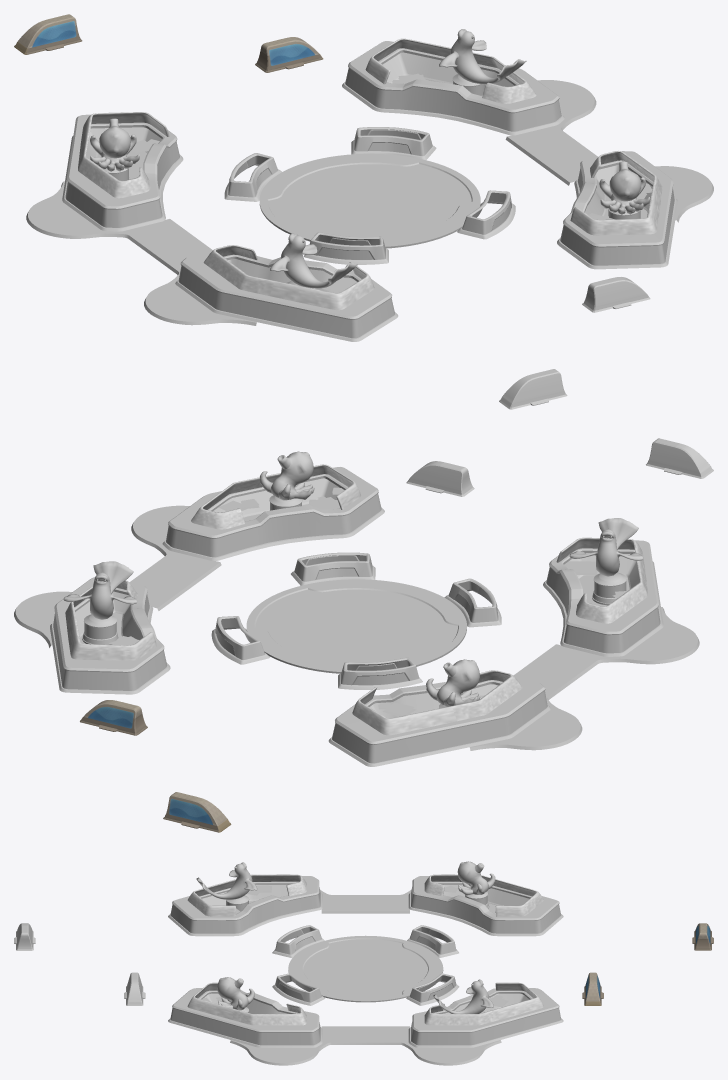
Rendered from pref_Area02_Small_Grandstand_lv3.fbx.
3 views of the same model, one above another, from view 1: azimuth 30°, elevation 25°; view 2: azimuth 150°, elevation 25°; view 3: azimuth 270°, elevation 25° (orthographic). The views are drawn at different scales.
Parts seen in each view (by area): view 1: pref_sm_beach_techcenter_lv3, sm_beach_techcenter_floor02a_lv3, sm_beach_techcenter_floor01a_lv3, sm_beach_techcenter_floor02c_lv3, sm_beach_techcenter_floor01c_lv3, pref_sm_beach_techstatue02_lv3, pref_sm_beach_techstatue02_lv3 (1), pref_sm_beach_techobstacle07b_mirror_lv3, pref_sm_beach_techobstacle07b_lv3 (9), pref_sm_beach_techstatue01_lv3 (1), pref_sm_beach_techstatue01_lv3, pref_sm_beach_techobstacle07b_lv3 (10) (+1 smaller); view 2: sm_beach_techcenter_floor02a_lv3, sm_beach_techcenter_floor01a_lv3, pref_sm_beach_techcenter_lv3, sm_beach_techcenter_floor02c_lv3, sm_beach_techcenter_floor01c_lv3, pref_sm_beach_techstatue02_lv3 (1), pref_sm_beach_techstatue02_lv3, pref_sm_beach_techstatue01_lv3 (1), pref_sm_beach_techobstacle07b_lv3 (9), pref_sm_beach_techobstacle07b_mirror_lv3, pref_sm_beach_techstatue01_lv3, pref_sm_beach_techobstacle07b_mirror_lv3 (1) (+3 smaller); view 3: sm_beach_techcenter_floor01a_lv3, pref_sm_beach_techcenter_lv3, sm_beach_techcenter_floor02a_lv3, sm_beach_techcenter_floor01c_lv3, sm_beach_techcenter_floor02c_lv3, pref_sm_beach_techstatue01_lv3, pref_sm_beach_techstatue01_lv3 (1), pref_sm_beach_techstatue02_lv3, pref_sm_beach_techstatue02_lv3 (1), pref_sm_beach_techobstacle07b_lv3 (10), pref_sm_beach_techobstacle07b_mirror_lv3 (1), pref_sm_beach_techobstacle07b_lv3 (9) (+1 smaller).
Part boxes in pixels (bbox=[...]): pref_sm_beach_techcenter_lv3: bbox=[224, 127, 515, 264]; sm_beach_techcenter_floor02a_lv3: bbox=[26, 114, 398, 341]; sm_beach_techcenter_floor01a_lv3: bbox=[342, 41, 713, 269]; sm_beach_techcenter_floor02c_lv3: bbox=[78, 112, 374, 310]; sm_beach_techcenter_floor01c_lv3: bbox=[365, 38, 662, 235]; pref_sm_beach_techstatue02_lv3: bbox=[270, 233, 357, 288]; pref_sm_beach_techstatue02_lv3 (1): bbox=[439, 29, 526, 84]; pref_sm_beach_techobstacle07b_mirror_lv3: bbox=[499, 369, 567, 409]; pref_sm_beach_techobstacle07b_lv3 (9): bbox=[14, 14, 82, 54]; pref_sm_beach_techstatue01_lv3 (1): bbox=[599, 161, 650, 214]; pref_sm_beach_techstatue01_lv3: bbox=[90, 118, 139, 171]; pref_sm_beach_techobstacle07b_lv3 (10): bbox=[255, 37, 323, 72]; sm_beach_techcenter_floor02a_lv3: bbox=[328, 540, 699, 766]; sm_beach_techcenter_floor01a_lv3: bbox=[14, 467, 384, 694]; pref_sm_beach_techcenter_lv3: bbox=[211, 552, 501, 689]; sm_beach_techcenter_floor02c_lv3: bbox=[352, 537, 648, 735]; sm_beach_techcenter_floor01c_lv3: bbox=[65, 464, 360, 660]; pref_sm_beach_techstatue02_lv3 (1): bbox=[63, 561, 137, 619]; pref_sm_beach_techstatue02_lv3: bbox=[569, 518, 643, 576]; pref_sm_beach_techstatue01_lv3 (1): bbox=[260, 451, 314, 500]; pref_sm_beach_techobstacle07b_lv3 (9): bbox=[163, 792, 231, 832]; pref_sm_beach_techobstacle07b_mirror_lv3: bbox=[646, 438, 713, 478]; pref_sm_beach_techstatue01_lv3: bbox=[426, 659, 480, 706]; pref_sm_beach_techobstacle07b_mirror_lv3 (1): bbox=[406, 461, 474, 496]; sm_beach_techcenter_floor01a_lv3: bbox=[168, 988, 563, 1065]; pref_sm_beach_techcenter_lv3: bbox=[272, 925, 459, 1005]; sm_beach_techcenter_floor02a_lv3: bbox=[168, 874, 563, 936]; sm_beach_techcenter_floor01c_lv3: bbox=[187, 982, 543, 1025]; sm_beach_techcenter_floor02c_lv3: bbox=[187, 874, 543, 916]; pref_sm_beach_techstatue01_lv3: bbox=[457, 861, 495, 895]; pref_sm_beach_techstatue01_lv3 (1): bbox=[217, 977, 254, 1010]; pref_sm_beach_techstatue02_lv3: bbox=[196, 862, 257, 899]; pref_sm_beach_techstatue02_lv3 (1): bbox=[433, 979, 493, 1013]; pref_sm_beach_techobstacle07b_lv3 (10): bbox=[582, 972, 603, 1005]; pref_sm_beach_techobstacle07b_mirror_lv3 (1): bbox=[124, 972, 145, 1005]; pref_sm_beach_techobstacle07b_lv3 (9): bbox=[692, 923, 713, 950].
Size of the model in its own units: 39.66 by 5.02 by 61.74.
